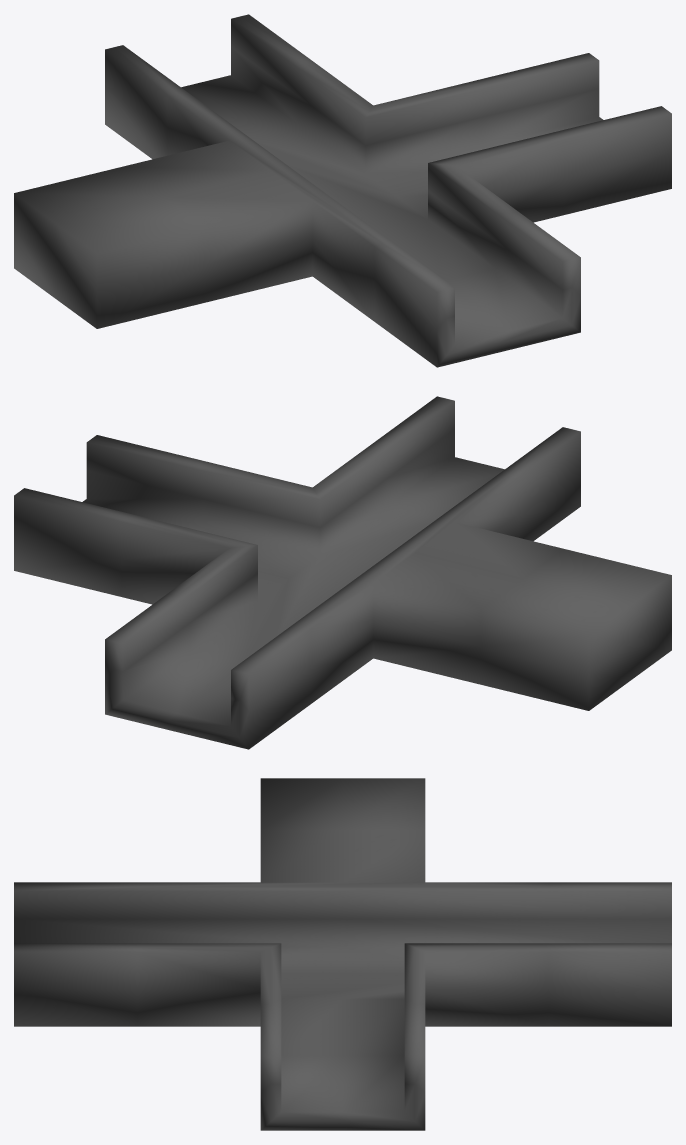
3 views of the same model, one above another, from view 1: azimuth 30°, elevation 25°; view 2: azimuth 150°, elevation 25°; view 3: azimuth 270°, elevation 25° (orthographic).
Parts seen in each view (by area): view 1: defaultobject; view 2: defaultobject; view 3: defaultobject.
Boxes of the visible parts, x1,y1,x2,y2 form: defaultobject: (14, 14, 671, 367); defaultobject: (14, 396, 671, 749); defaultobject: (14, 778, 671, 1130).
Bounding box in the file's own units: 1 × 0.125 × 1.
Materials: 1 (1 with a texture image).
